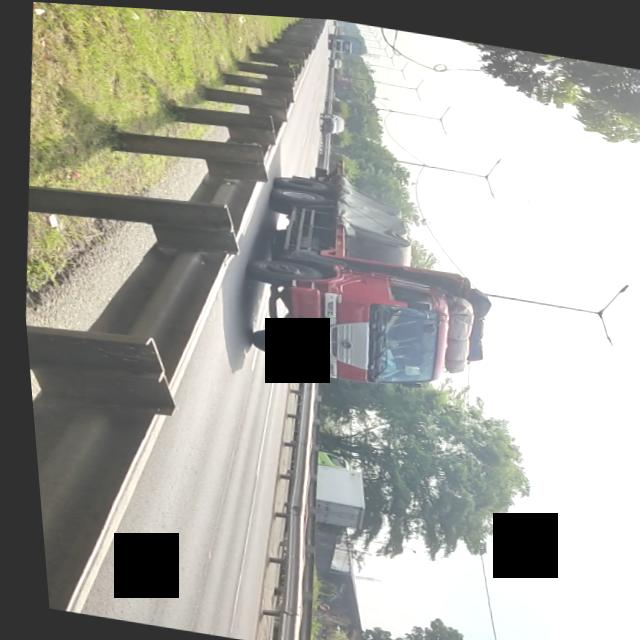Golongan III: (219, 141, 497, 399)
